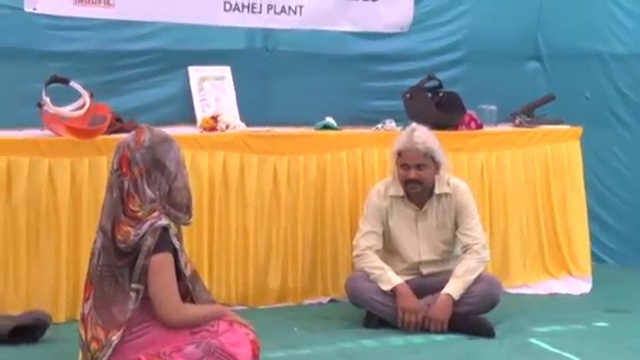helmet_off: (110, 131, 193, 224), (396, 129, 443, 203)
person: (76, 121, 261, 360), (342, 122, 504, 338)
